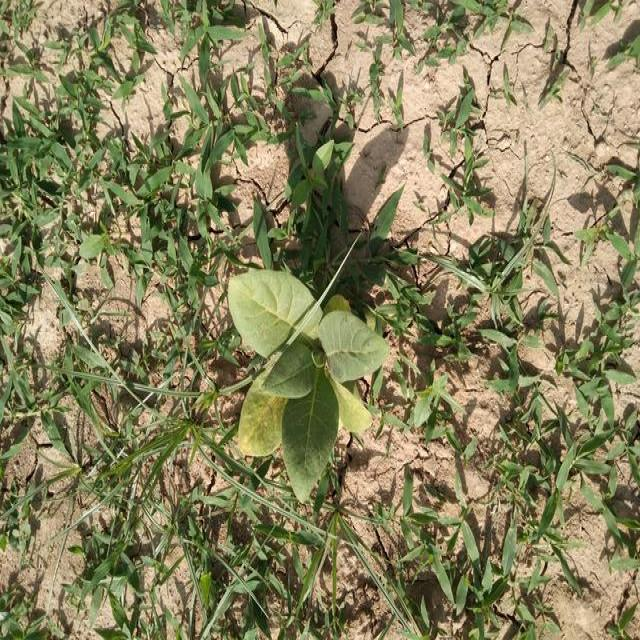crop: (214, 245, 393, 496)
